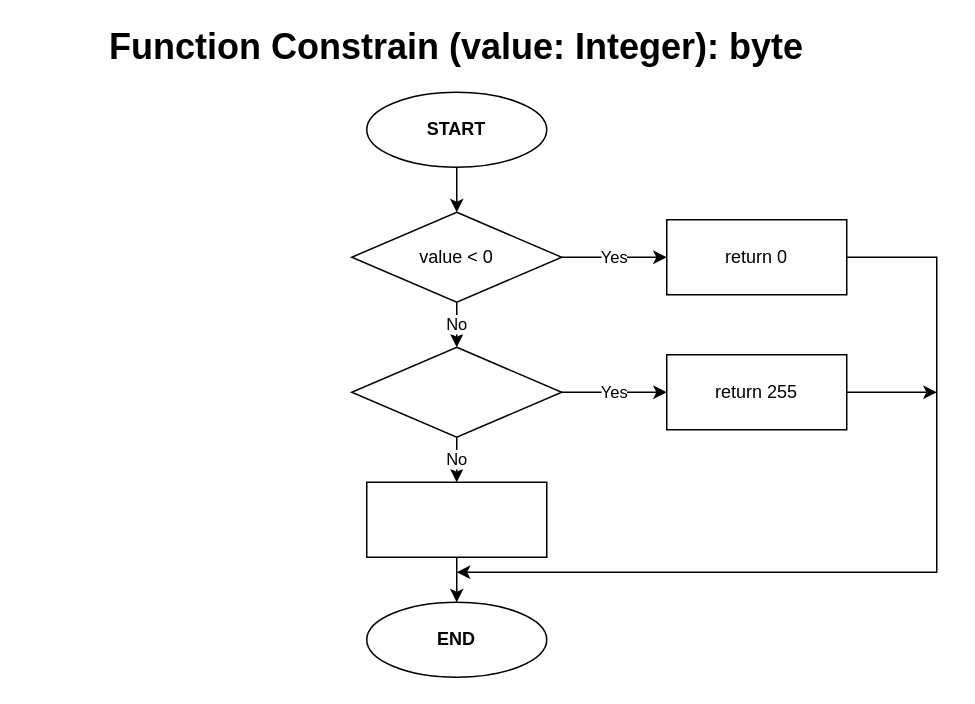
This 975x704 diagram has some shape labels left out. The centre of each missing label's shape, as x and y in pixels:
"return value" belongs at [456,519].
"value > 255" belongs at [456,391].
